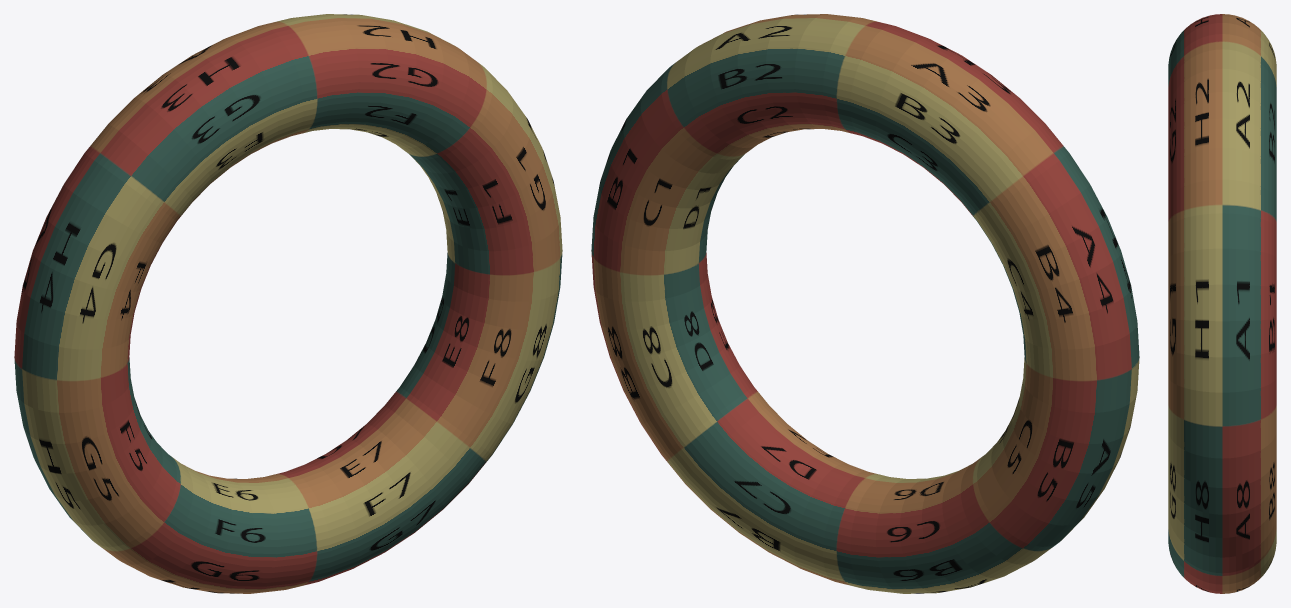
File: texture_torus_R5_r4.glb
The picture shows the model from 3 angles, left to right: view 1: azimuth 30°, elevation 25°; view 2: azimuth 150°, elevation 25°; view 3: azimuth 270°, elevation 25°; orthographic projection. The views are drawn at different scales.
Parts seen in each view (by area): view 1: world; view 2: world; view 3: world.
Part boxes in pixels (box(x1,y1,x2,y2)): world: box(14, 14, 562, 593); world: box(591, 14, 1139, 593); world: box(1168, 14, 1276, 593).
Bounding box in the file's own units: 16.4 × 16.37 × 3.06.
1 material, 1 textured.
